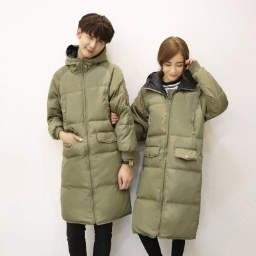face: (76, 12, 115, 62), (156, 35, 190, 80)
